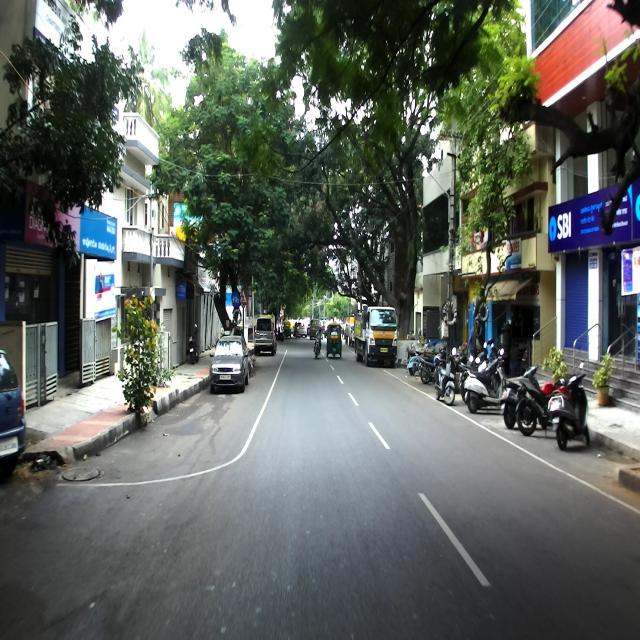autorickshaw: (327, 323, 342, 358)
car: (254, 314, 277, 358)
motorcycle: (516, 375, 571, 436)
scooter: (548, 372, 590, 449), (463, 347, 507, 414), (497, 364, 540, 430), (434, 351, 458, 407)
truck: (352, 309, 398, 366)
